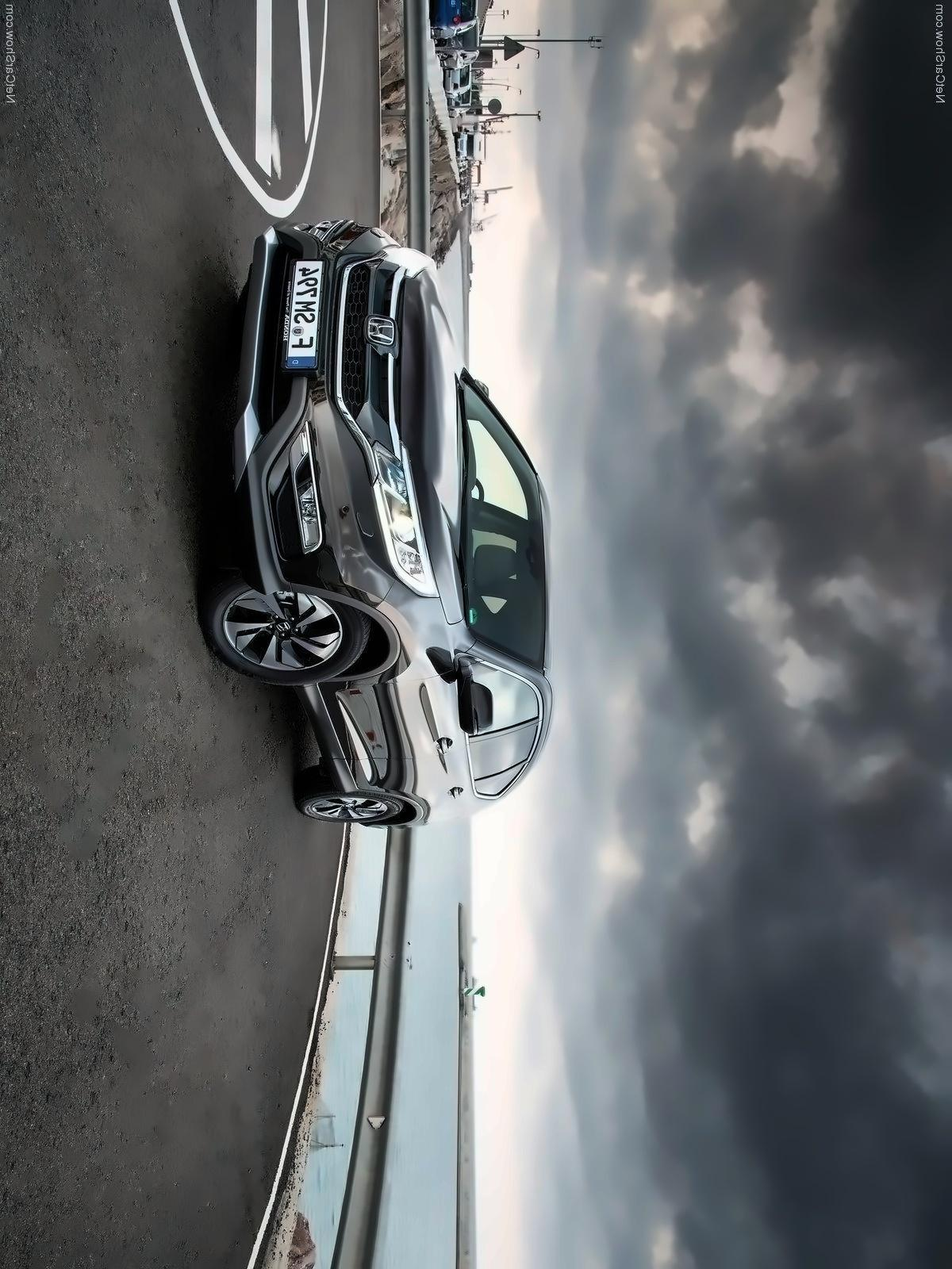Car hood: (391, 258, 470, 637)
Front bumper: (218, 216, 405, 600)
Headlight - -L-: (361, 432, 439, 600)
Headlight - -R-: (387, 240, 441, 281)
Passenger-s door - -F-L-: (260, 649, 610, 756)
Passenger-s door - -R-L-: (271, 724, 577, 808)
Side bumper - -L-: (288, 674, 372, 812)
Side mirror - -L-: (437, 660, 495, 738)
